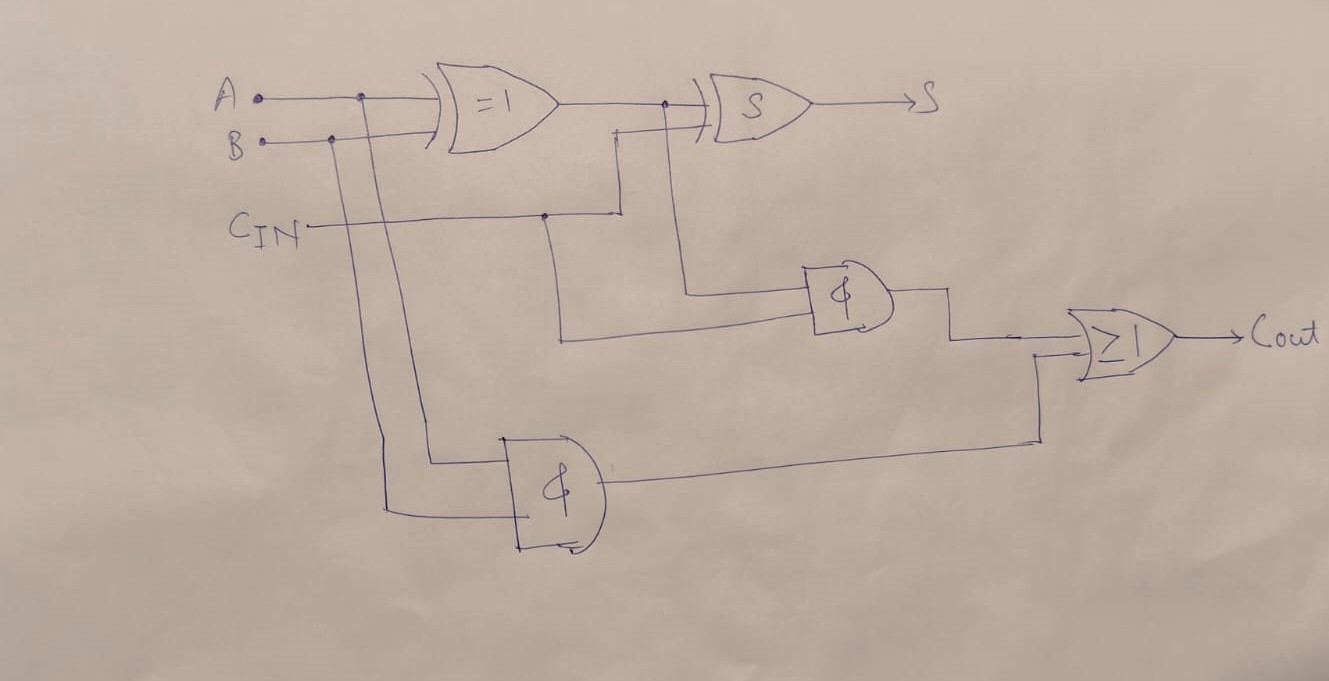and: (495, 432, 610, 558), (800, 256, 898, 340)
crossover: (378, 216, 390, 228), (660, 122, 672, 134), (362, 131, 374, 141), (340, 219, 352, 229)
junction: (1029, 432, 1049, 450), (609, 125, 623, 141), (612, 206, 626, 220), (353, 89, 367, 103), (379, 503, 393, 517), (536, 209, 550, 223), (324, 133, 338, 145), (941, 282, 953, 294), (944, 333, 956, 345), (554, 334, 566, 346), (658, 98, 670, 110), (680, 287, 692, 299), (425, 457, 437, 469), (1028, 349, 1040, 361)
or: (1060, 303, 1181, 383)
terminal: (1227, 328, 1245, 346), (901, 92, 915, 111), (250, 90, 266, 106), (255, 134, 269, 148), (303, 220, 312, 233)
text: (225, 212, 303, 252), (1248, 309, 1320, 349), (209, 72, 239, 114), (912, 79, 942, 115), (223, 128, 247, 162)
xor: (418, 59, 564, 157), (690, 70, 816, 146)
